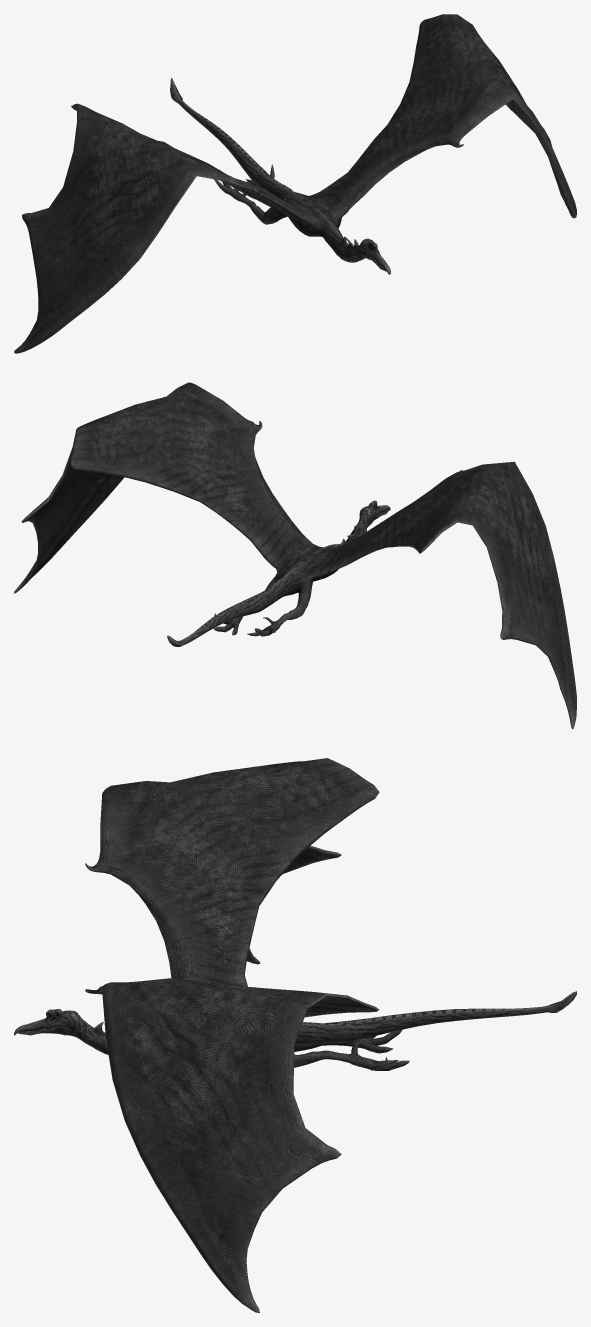
The model's file is Fellbeast_FlyAnim_5.obj.
3 renders of one model, top to bottom at view 1: azimuth 30°, elevation 25°; view 2: azimuth 150°, elevation 25°; view 3: azimuth 270°, elevation 25°, orthographic. The views are drawn at different scales.
Visible parts, largest first — view 1: Fellbeast; view 2: Fellbeast; view 3: Fellbeast.
Boxes of the visible parts, x1=… form: Fellbeast: x1=14, y1=14, x2=576, y2=353; Fellbeast: x1=14, y1=382, x2=576, y2=729; Fellbeast: x1=14, y1=758, x2=576, y2=1312.
Size of the model in its own units: 6.37 by 2.24 by 4.35.
